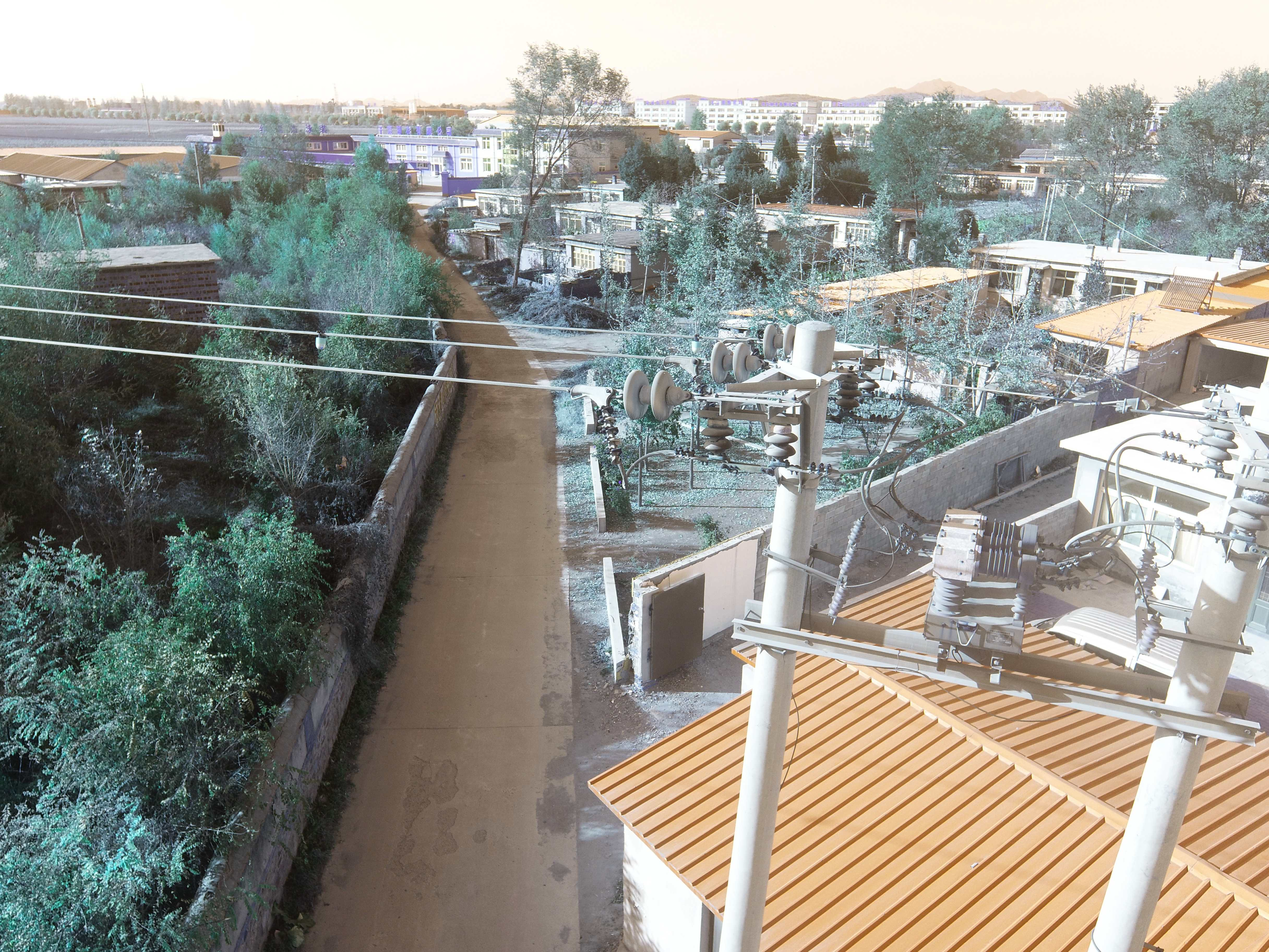severe_soiling_no_discharge_whole: (623, 368, 686, 422), (1221, 410, 1229, 417), (857, 371, 864, 378), (698, 387, 704, 394), (771, 357, 777, 362)
